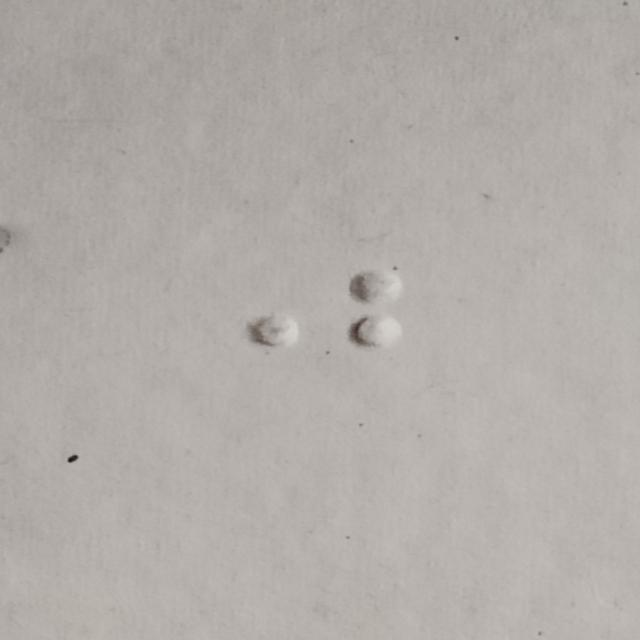binata: (351, 268, 460, 385)
dot_5: (193, 271, 302, 388)
